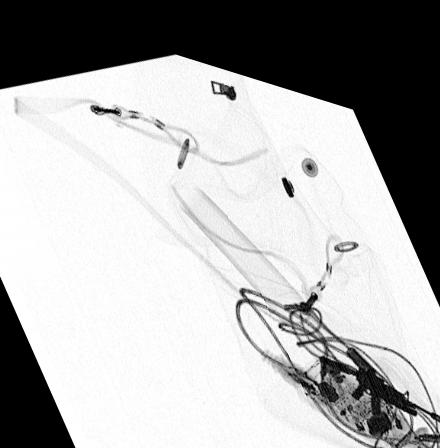Gun: (317, 335, 440, 398)
